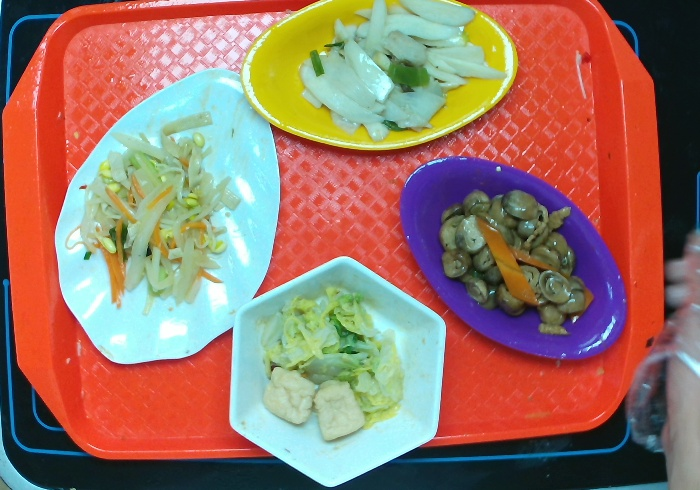RJxy-Bai_Ye_Pan: (55, 69, 289, 370)
RJxy-Fen_Hong_Tuo_Yuan: (398, 154, 630, 368)
RJxy-Huang_Se_Tuo_Yuan: (245, 1, 527, 155)
RJxy-Liu_Jiao_Wan: (232, 255, 454, 483)
